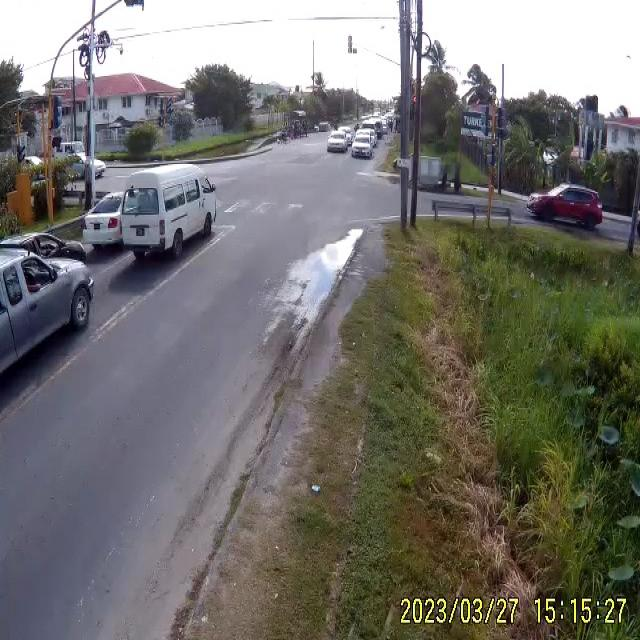car: (119, 166, 218, 260), (528, 185, 605, 228), (79, 190, 124, 252), (353, 126, 376, 153), (326, 131, 350, 155), (352, 136, 376, 160)
